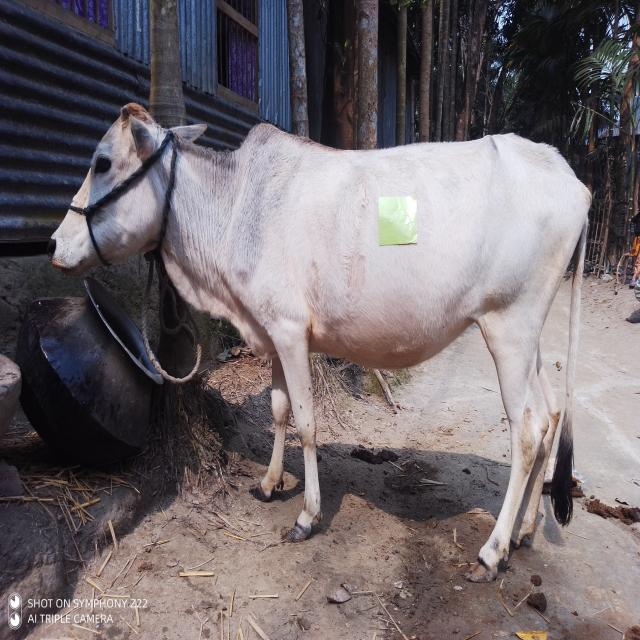badan_sapi: (264, 153, 572, 357)
sapi: (46, 98, 600, 590)
